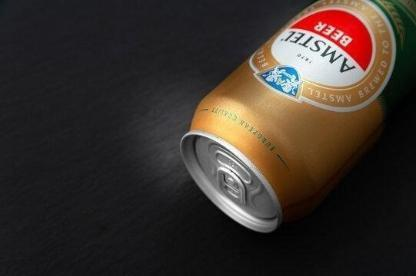Can: (179, 2, 415, 234)
